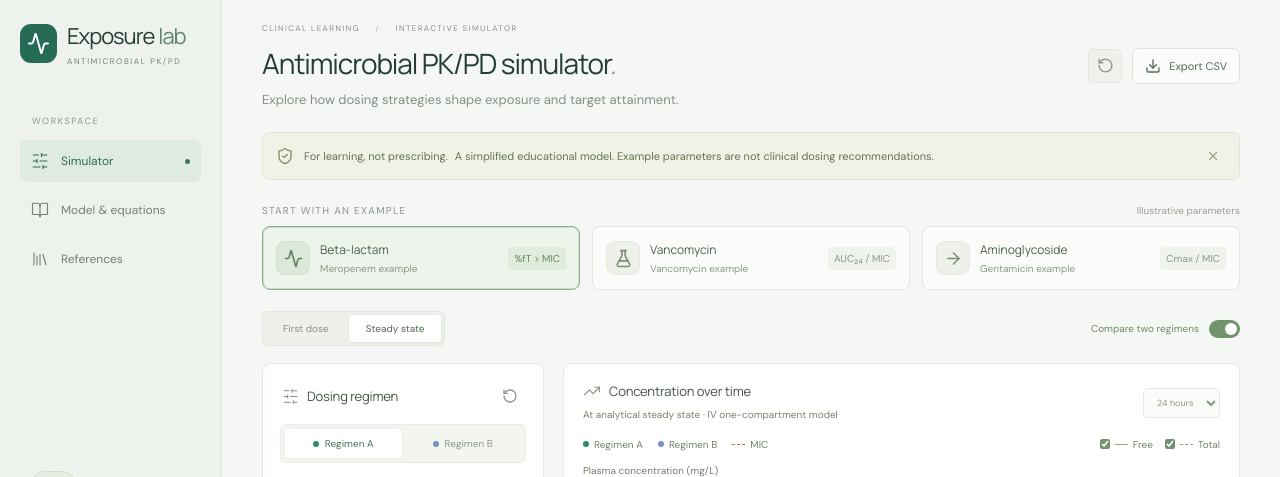
Scenario: simulator workflows › renders real concentration curves and toggles visibility without changing metrics
Click the checkbox labelled "Total" at (1170, 444), box [1165,439,1175,449]
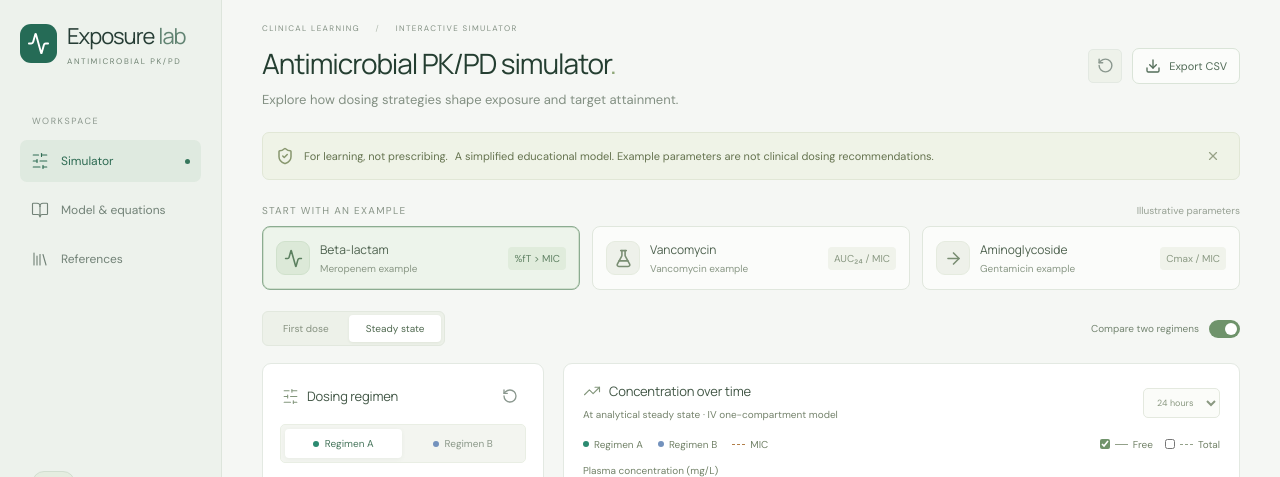
Click the checkbox labelled "Free" at (1105, 444), box [1100,439,1110,449]
(page scrolled)
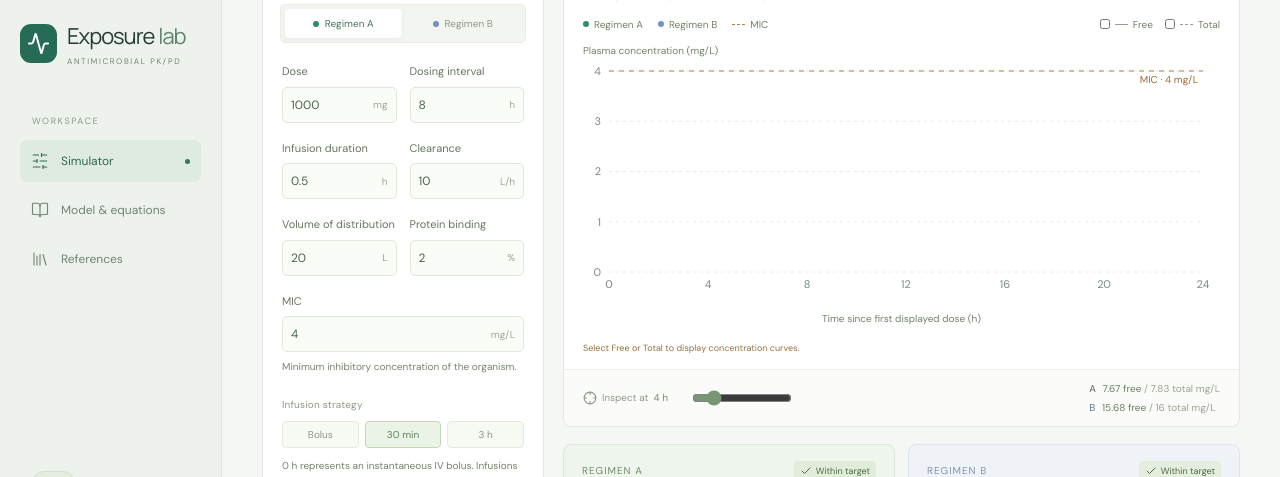
Expected: the text "Select Free or Total to display concentration curves." is shown, [583,342,799,354]
